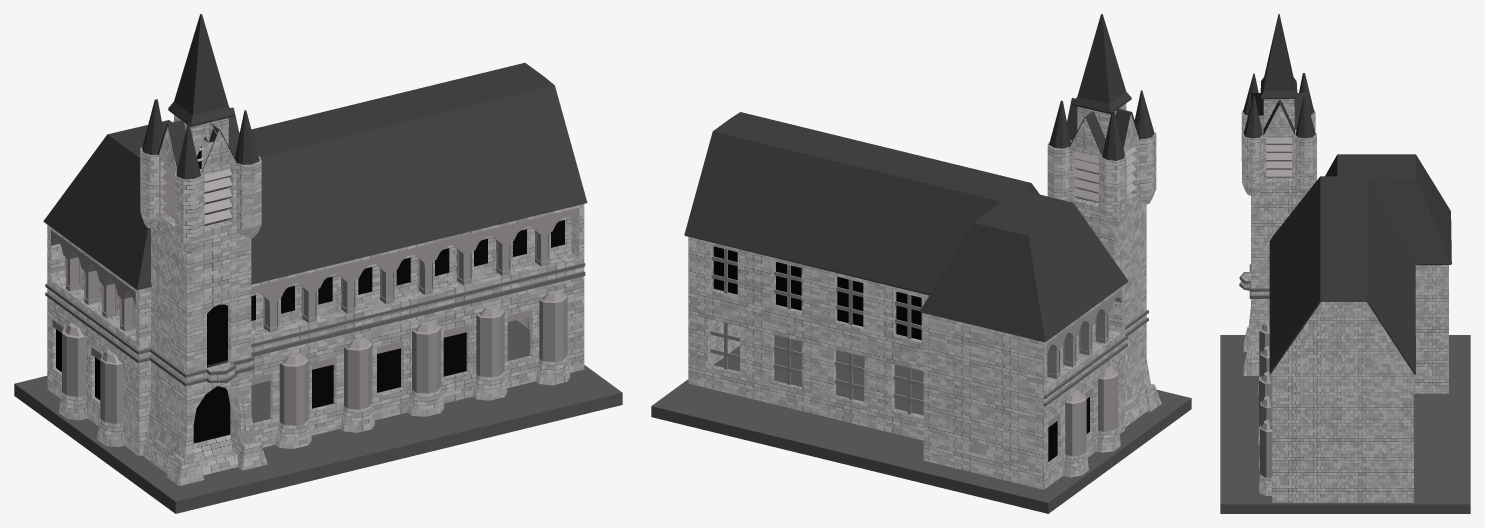
File: CastleTC.glb
3 views of the same model, side by side, from view 1: azimuth 30°, elevation 25°; view 2: azimuth 150°, elevation 25°; view 3: azimuth 270°, elevation 25° (orthographic). The views are drawn at different scales.
Parts seen in each view (by area): view 1: CastleTC; view 2: CastleTC; view 3: CastleTC.
Boxes of the visible parts, <box> form: CastleTC: <box>14,14,622,513</box>; CastleTC: <box>651,14,1191,513</box>; CastleTC: <box>1220,14,1470,513</box>.
Bounding box in the file's own units: 8 × 7.81 × 5.
6 materials, 1 textured.
